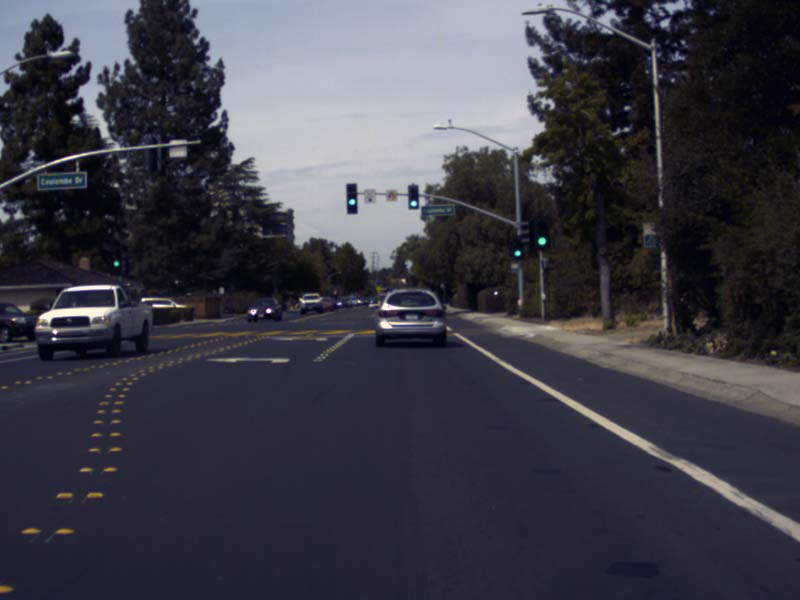Green: (534, 219, 549, 246), (346, 183, 358, 214), (112, 249, 122, 273), (408, 185, 418, 207), (512, 237, 523, 257)
